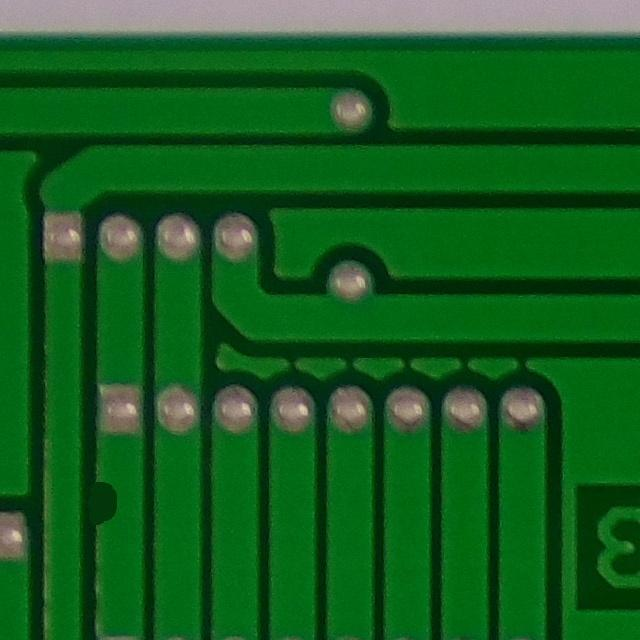mouse_bite: (73, 473, 128, 539)
